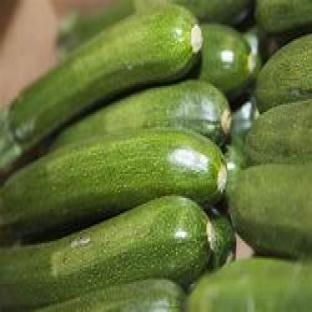Zucchini: (0, 6, 202, 173), (0, 129, 227, 239), (0, 197, 209, 311), (55, 81, 230, 147), (230, 165, 311, 257), (188, 258, 311, 311), (37, 281, 184, 311), (196, 25, 258, 95), (245, 100, 311, 164), (256, 36, 311, 112), (208, 210, 235, 270), (230, 98, 259, 149), (244, 27, 267, 82), (225, 144, 247, 194)
